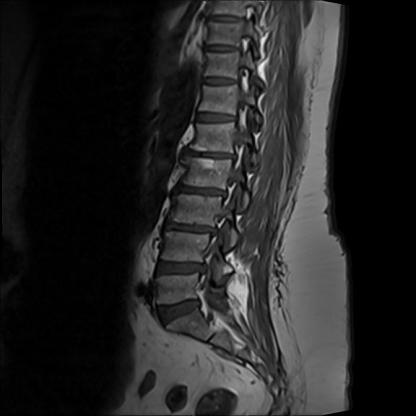Disc Bulgerotation: (151, 257, 213, 282), (161, 219, 229, 241), (182, 146, 244, 166), (173, 183, 232, 203)
